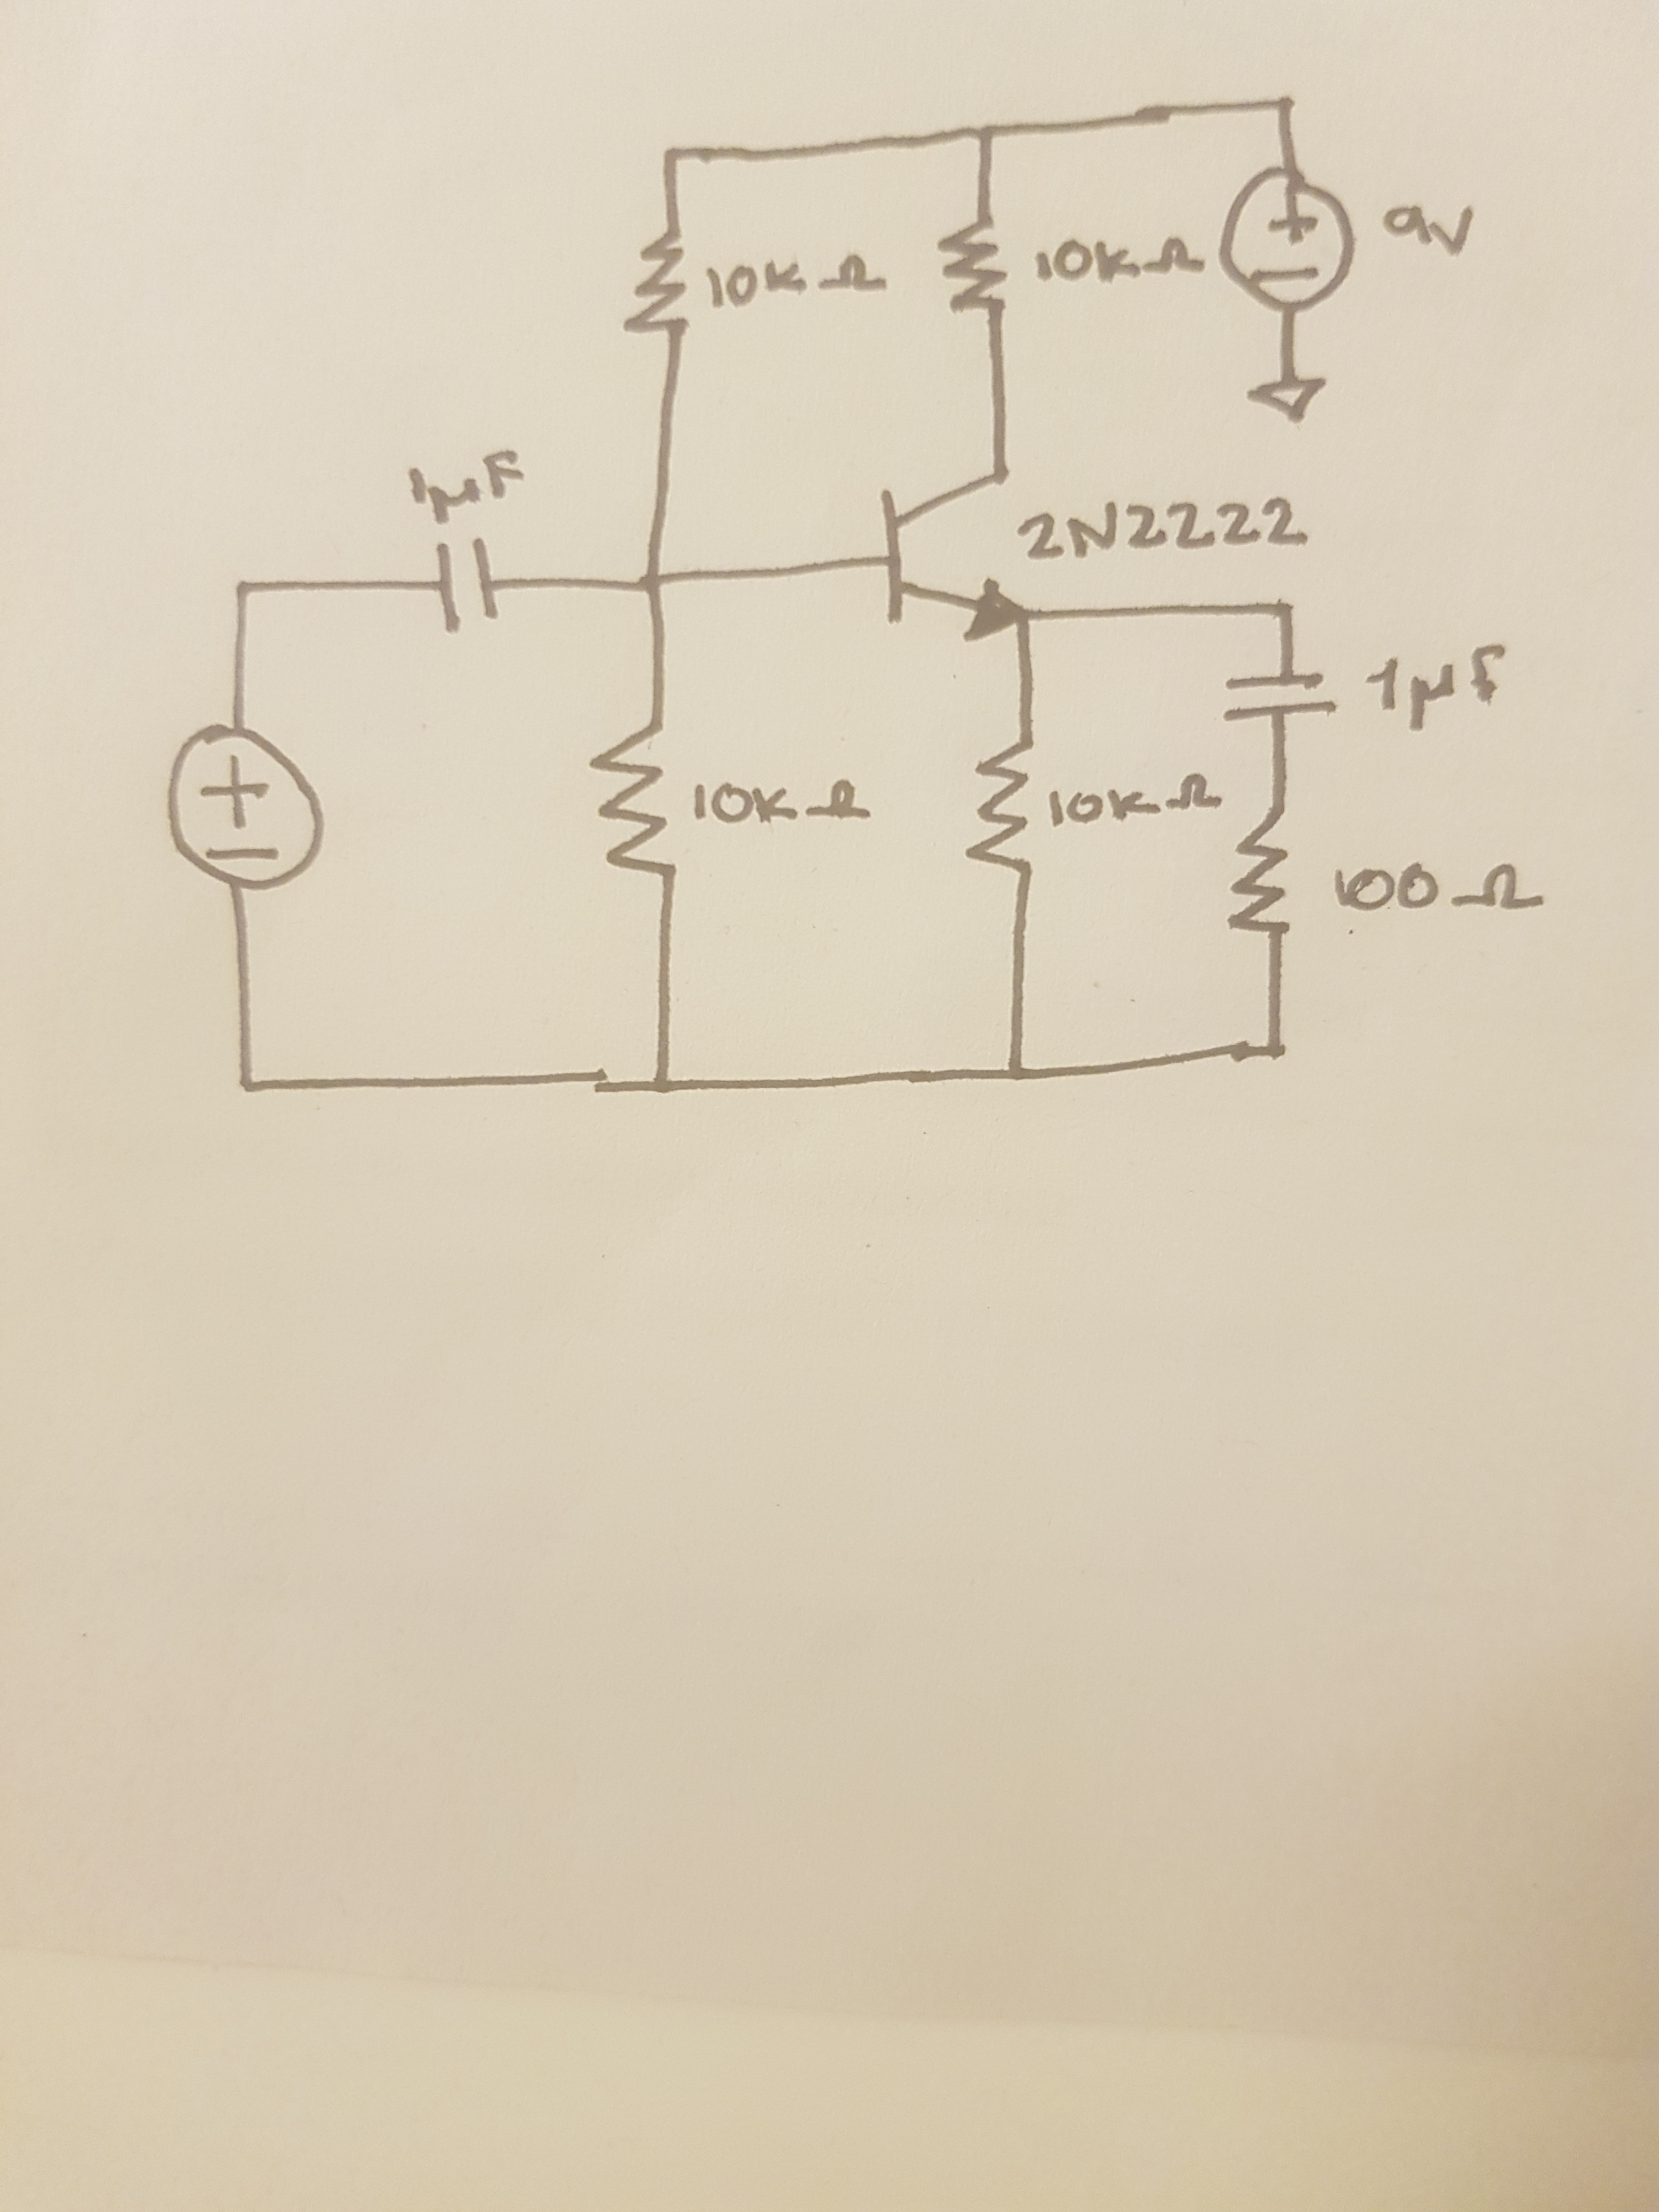capacitor.unpolarized: (1215, 671, 1342, 732), (429, 533, 500, 637)
gnd: (1241, 374, 1331, 428)
junction: (638, 561, 671, 603), (647, 1071, 678, 1101), (1272, 594, 1298, 629), (1256, 1035, 1288, 1062), (230, 1071, 258, 1103), (230, 577, 261, 601), (659, 143, 687, 169), (1274, 91, 1300, 117), (1000, 1061, 1028, 1085), (971, 118, 999, 143)
resistor: (582, 719, 683, 878), (960, 738, 1039, 873), (1220, 813, 1302, 939), (617, 226, 690, 341), (934, 218, 1011, 317)
text: (1014, 495, 1316, 568), (1330, 852, 1551, 916), (1366, 636, 1514, 732), (701, 247, 896, 317), (1042, 772, 1230, 833), (397, 444, 526, 526), (1025, 232, 1208, 287), (690, 775, 875, 829), (1382, 195, 1476, 265)
transistor: (873, 463, 1028, 651)
voltage.dc: (166, 721, 329, 897), (1215, 165, 1358, 317)
